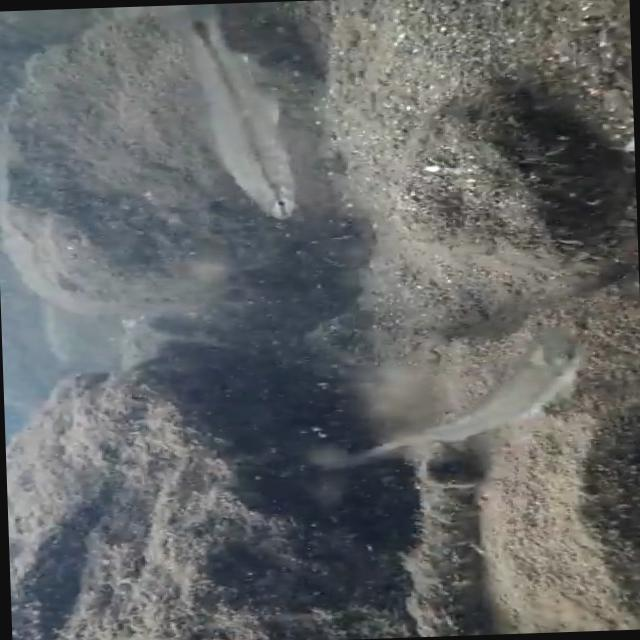Cakil Baligi: (156, 1, 304, 226)
